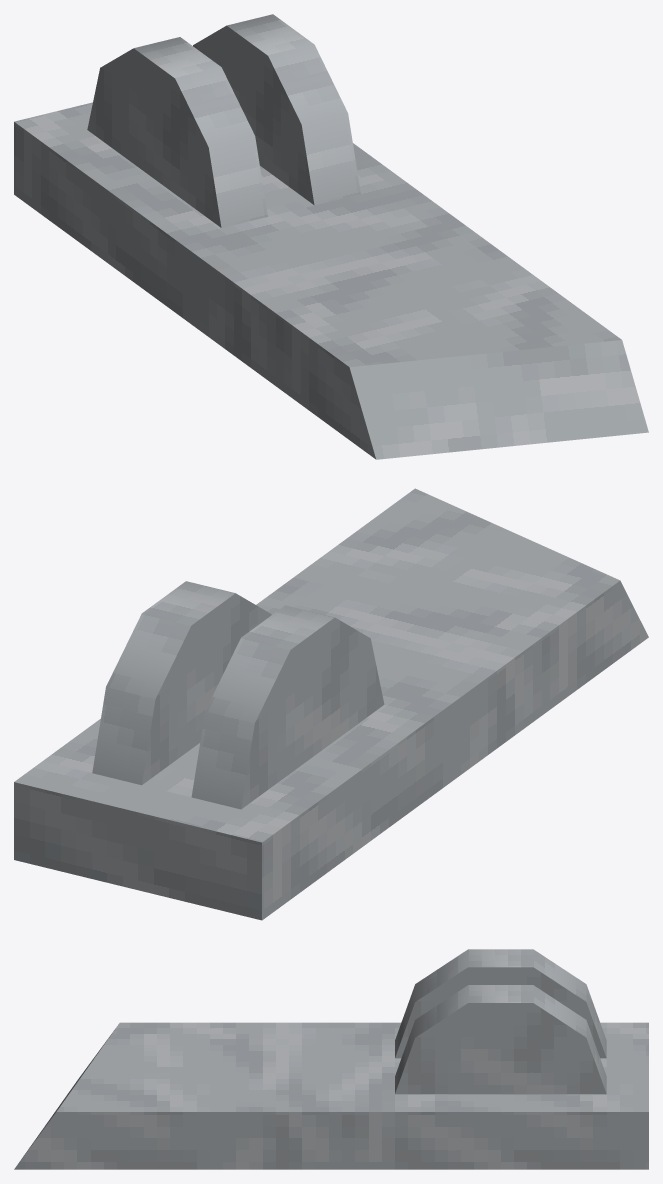
The model's file is right.obj.
3 views of the same model, one above another, from view 1: azimuth 30°, elevation 25°; view 2: azimuth 150°, elevation 25°; view 3: azimuth 270°, elevation 25° (orthographic). The views are drawn at different scales.
Visible parts, largest first — view 1: Mesh1 Group1 Model; view 2: Mesh1 Group1 Model; view 3: Mesh1 Group1 Model.
Boxes of the visible parts, bbox=[...] form: Mesh1 Group1 Model: bbox=[14, 14, 648, 459]; Mesh1 Group1 Model: bbox=[14, 488, 648, 920]; Mesh1 Group1 Model: bbox=[14, 949, 648, 1169].
Bounding box in the file's own units: 0.1 × 0.0776 × 0.3.
1 material, 1 textured.
